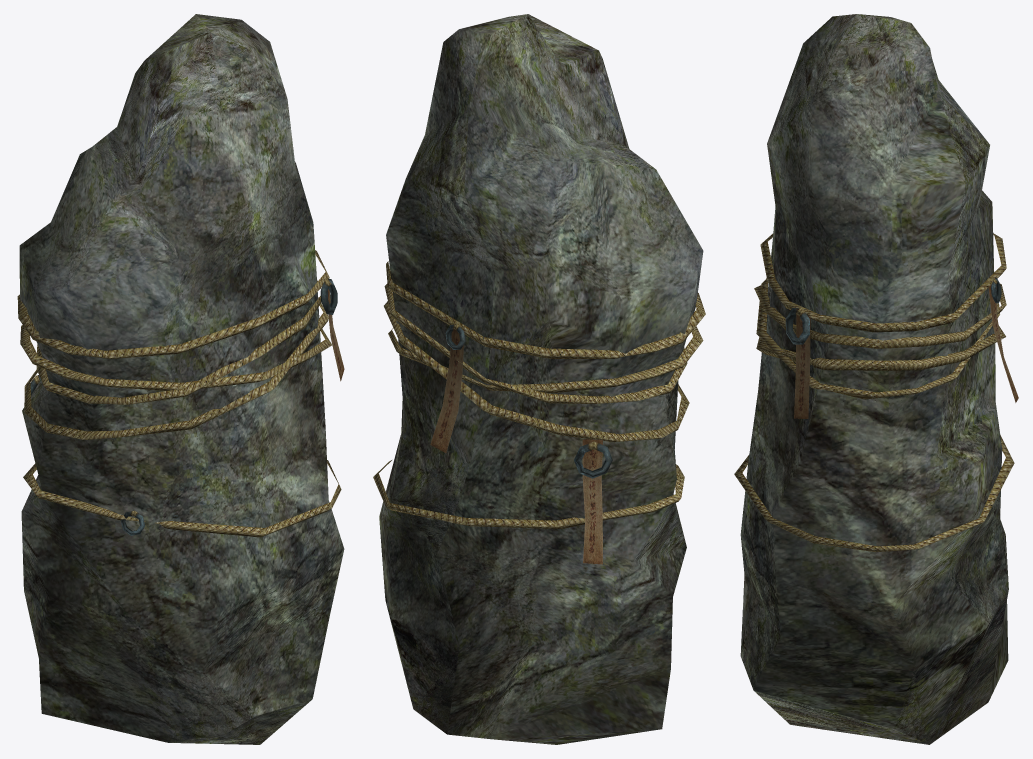
File: dawnmist_stonetotem.glb
3 renders of one model, left to right at view 1: azimuth 30°, elevation 25°; view 2: azimuth 150°, elevation 25°; view 3: azimuth 270°, elevation 25°, orthographic.
Visible parts, largest first — view 1: stone_totem00; view 2: stone_totem00; view 3: stone_totem00.
Boxes of the visible parts, x1=… form: stone_totem00: x1=17, y1=14, x2=344, y2=744; stone_totem00: x1=373, y1=14, x2=705, y2=744; stone_totem00: x1=734, y1=14, x2=1018, y2=744.
Size of the model in its own units: 3.66 by 8.15 by 2.96.
Materials: 1 (1 with a texture image).
